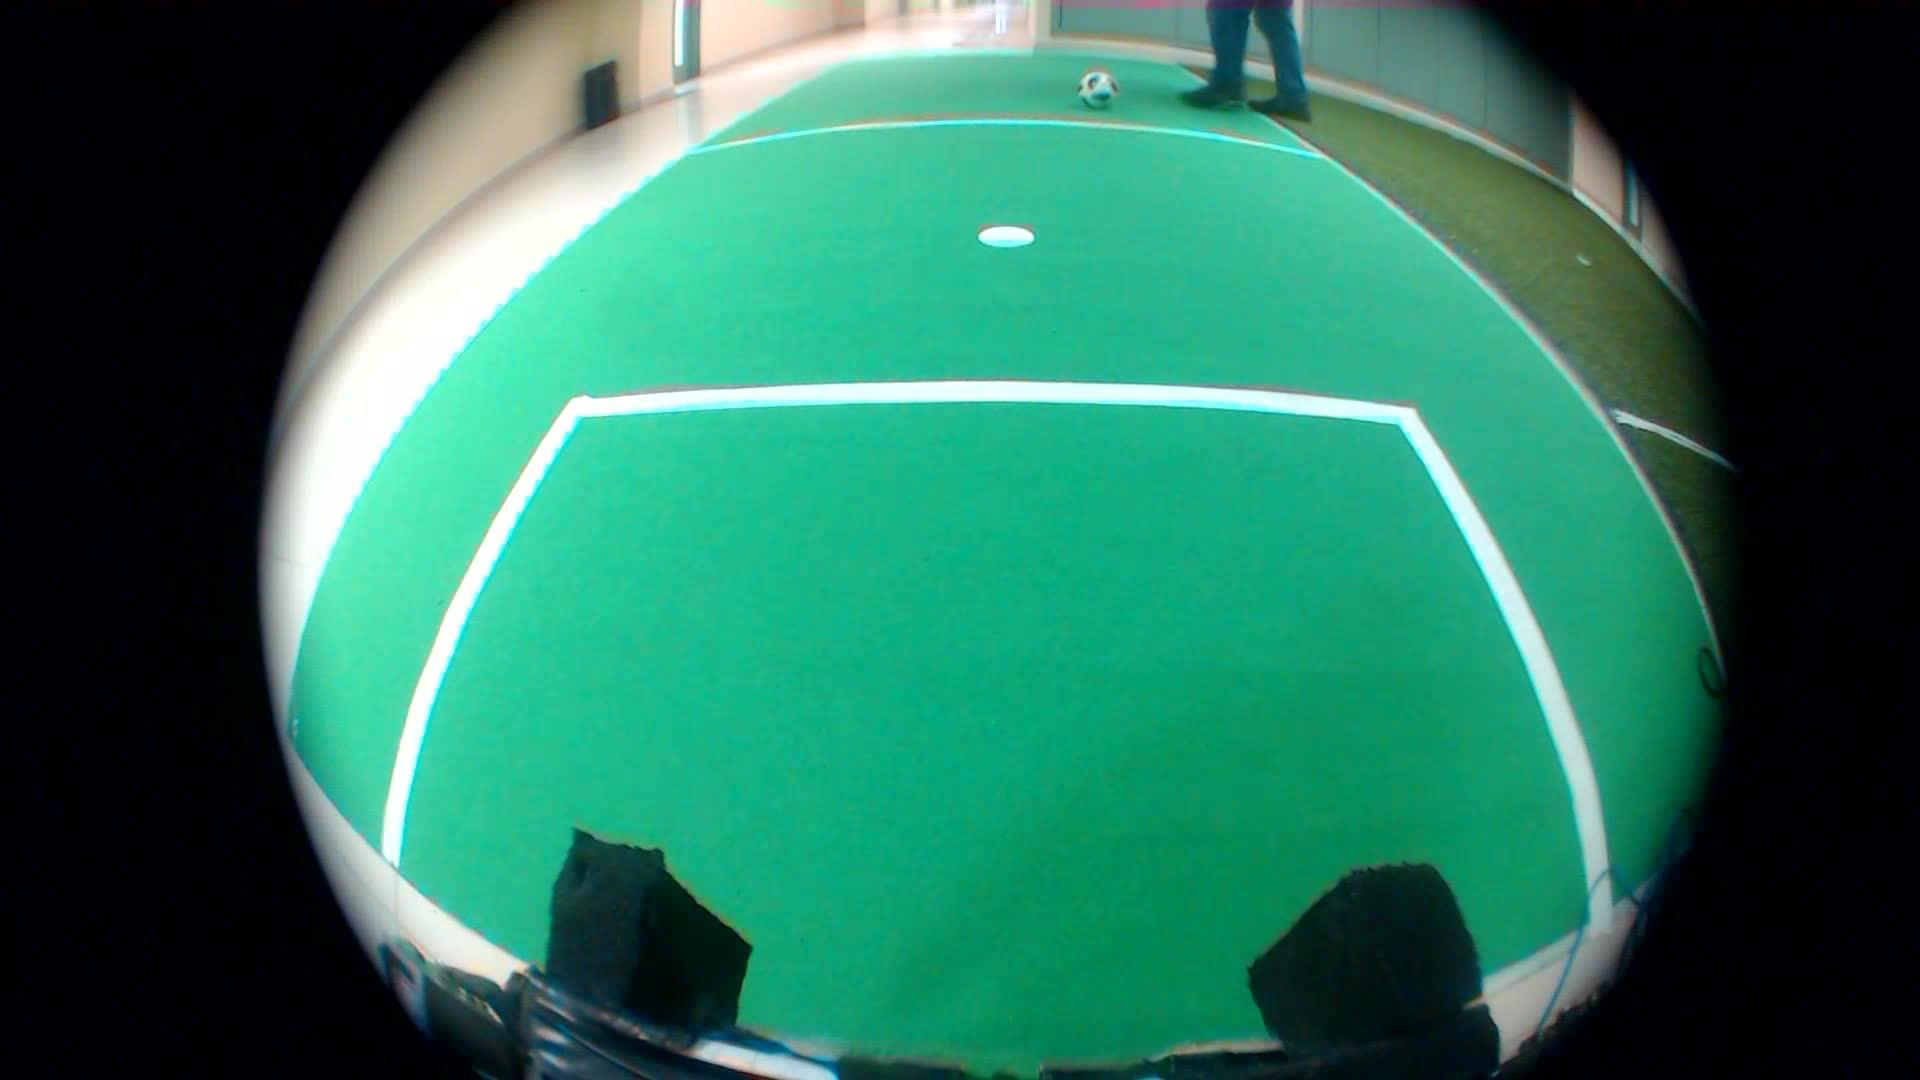ball: (1069, 58, 1120, 120)
